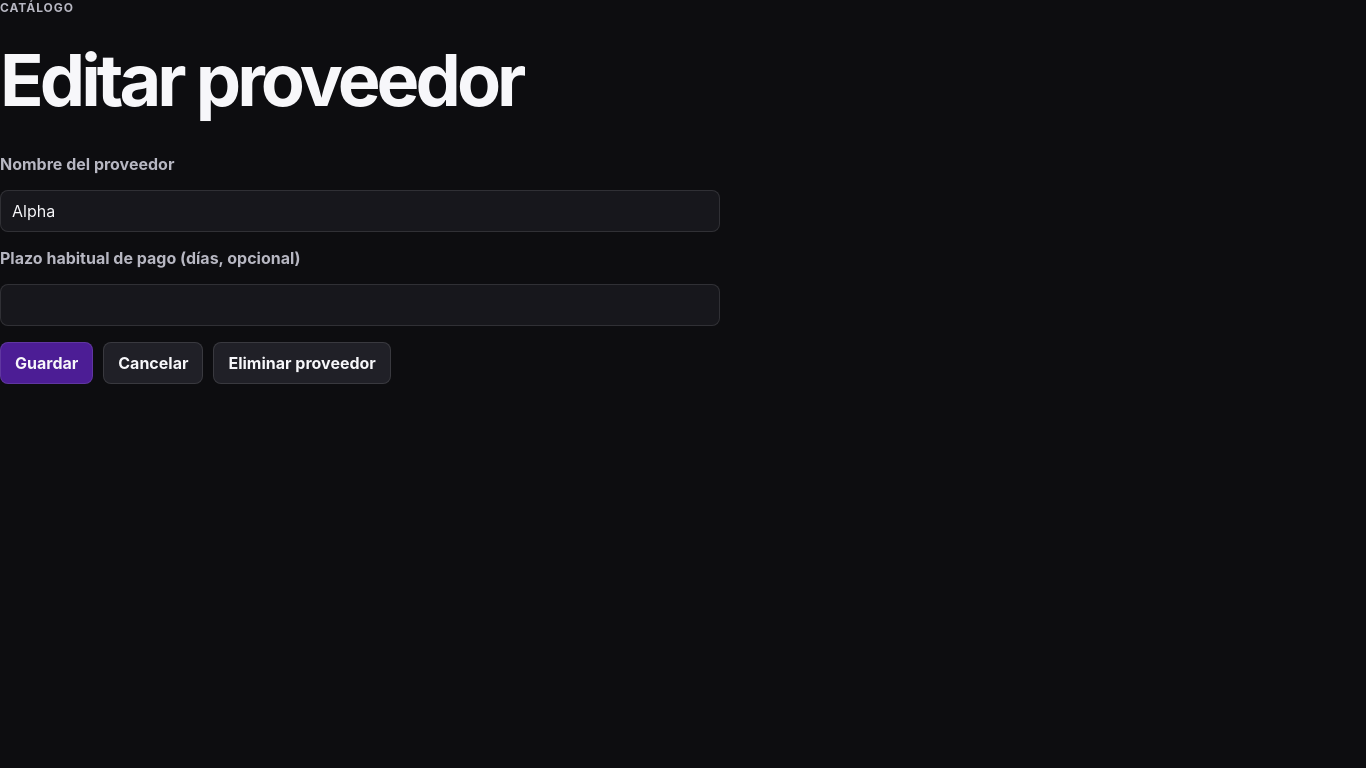
Test case: SupplierForm › surfaces an Error message when confirmed deletion fails
The image size is (1366, 768).
Click the button "Eliminar proveedor": (302, 363) [214,342,391,384]
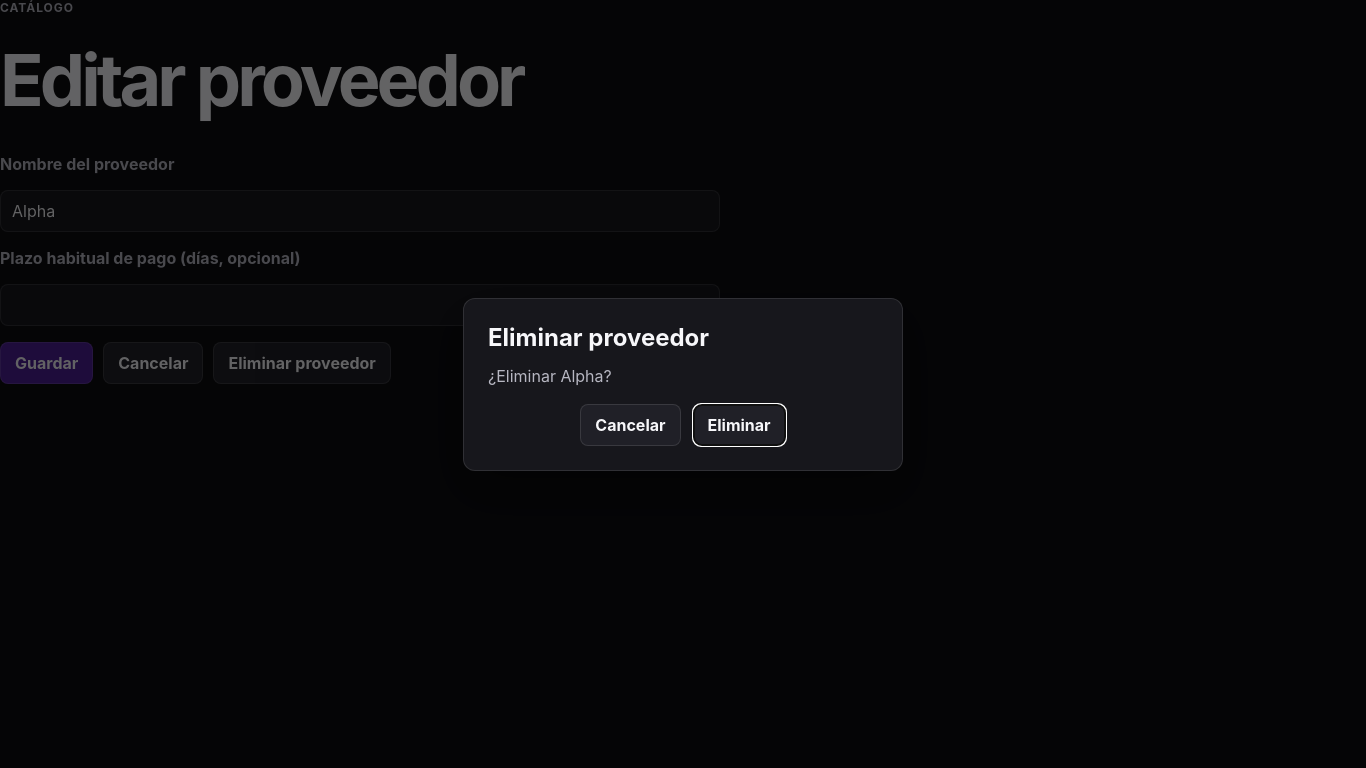
Click the button "Eliminar": (739, 424) [692,404,786,446]
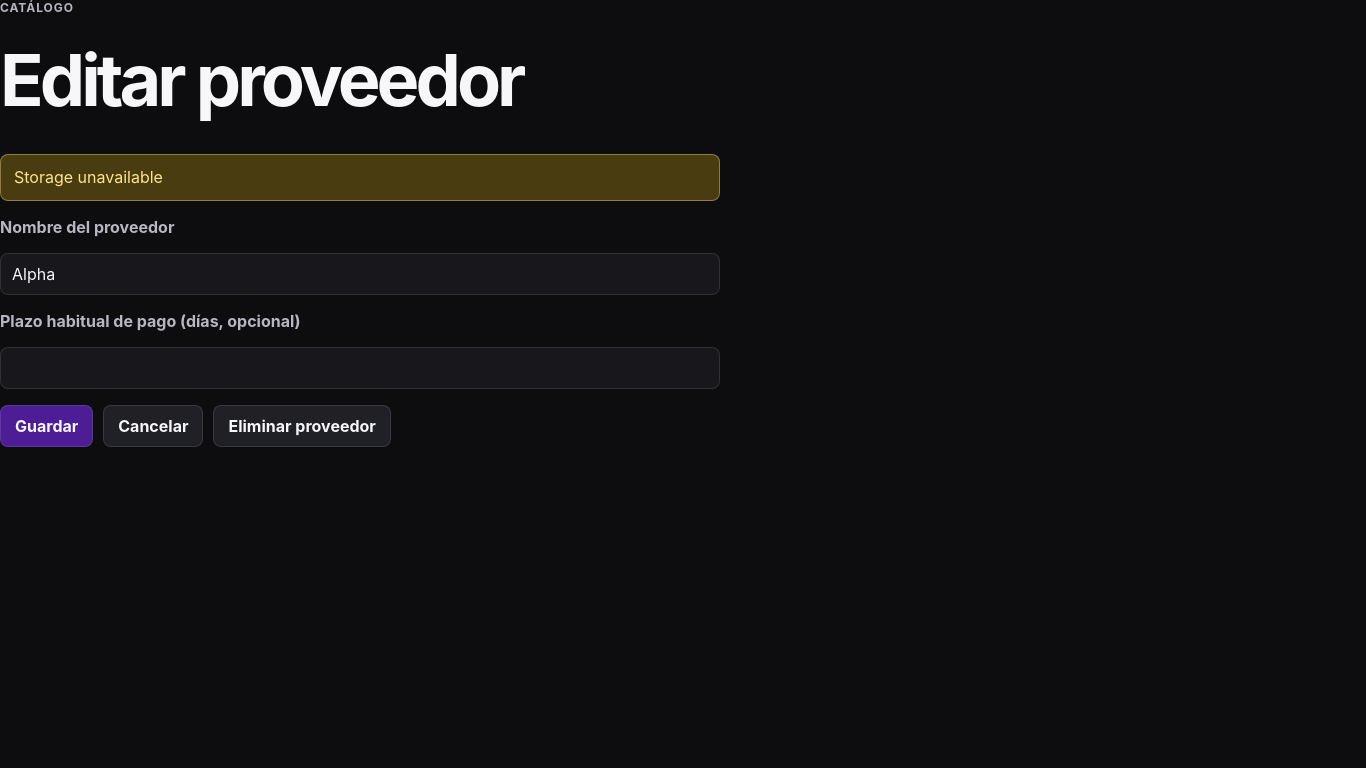
Check: the message reads "Storage unavailable", box [14,167,163,187]
